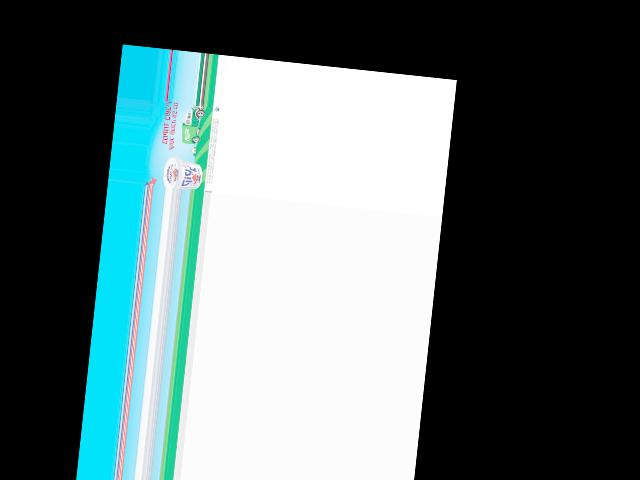cotage: (161, 155, 204, 191)
